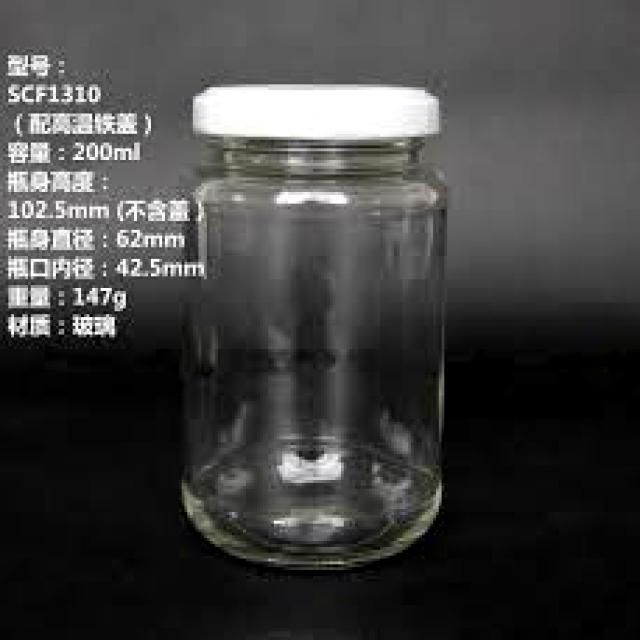Glass: (174, 79, 455, 574)
